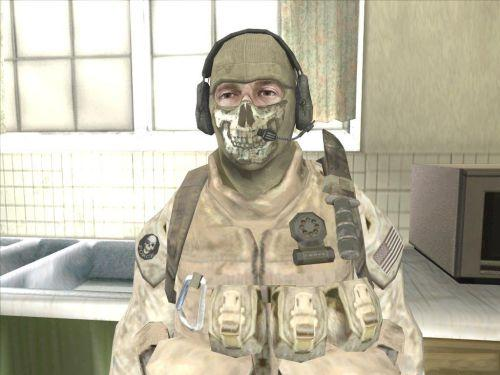face: (208, 68, 292, 171)
